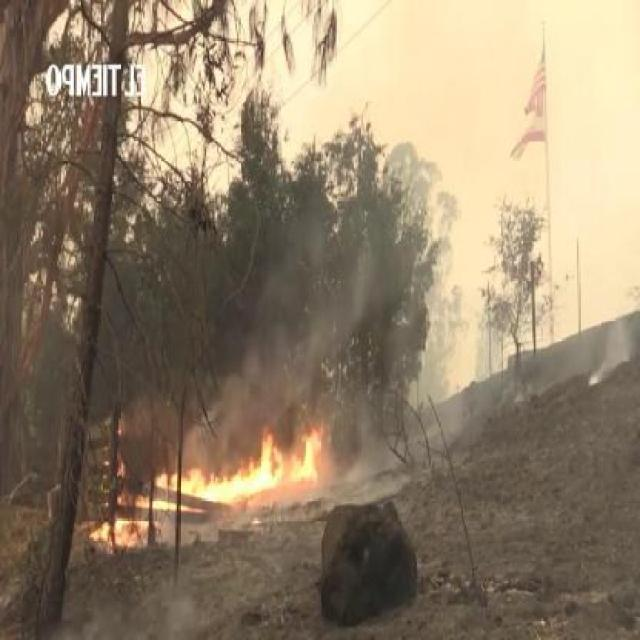Fire: (148, 422, 326, 508), (90, 511, 150, 547)
